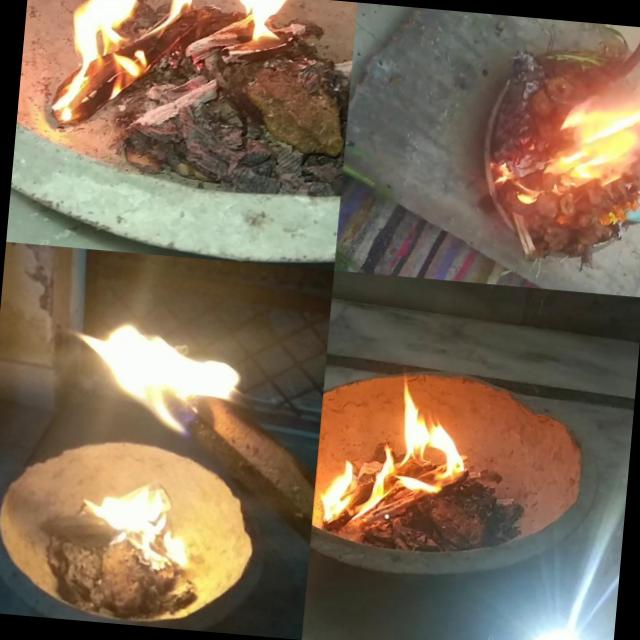fire: (50, 0, 292, 147), (56, 297, 258, 441), (313, 388, 474, 542), (76, 469, 204, 568)
